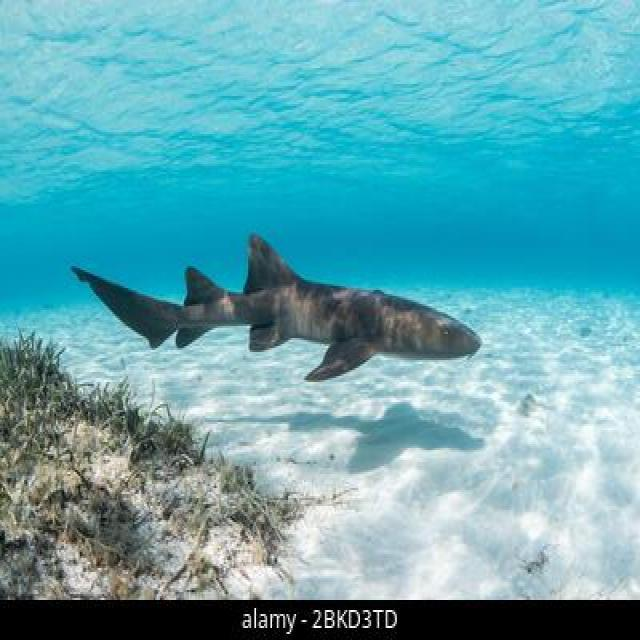Shark: (59, 186, 487, 400)
